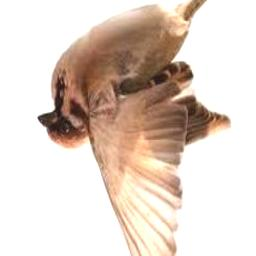Sparrow: (38, 0, 247, 256)
